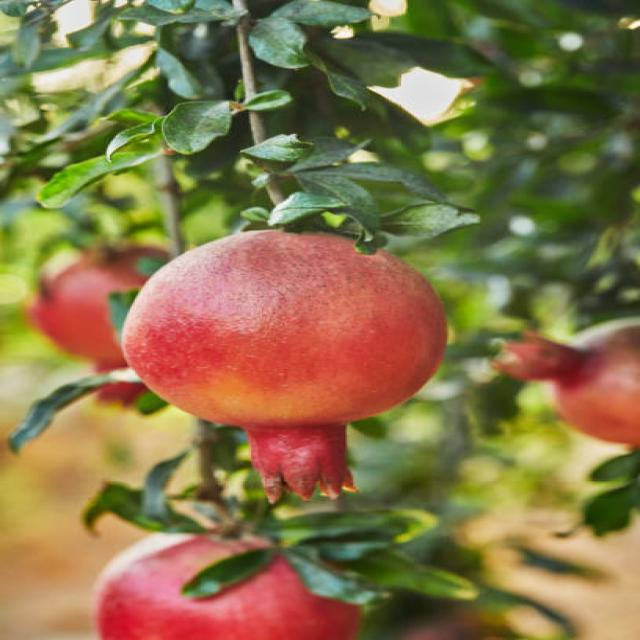Ripe: (120, 221, 452, 502)
